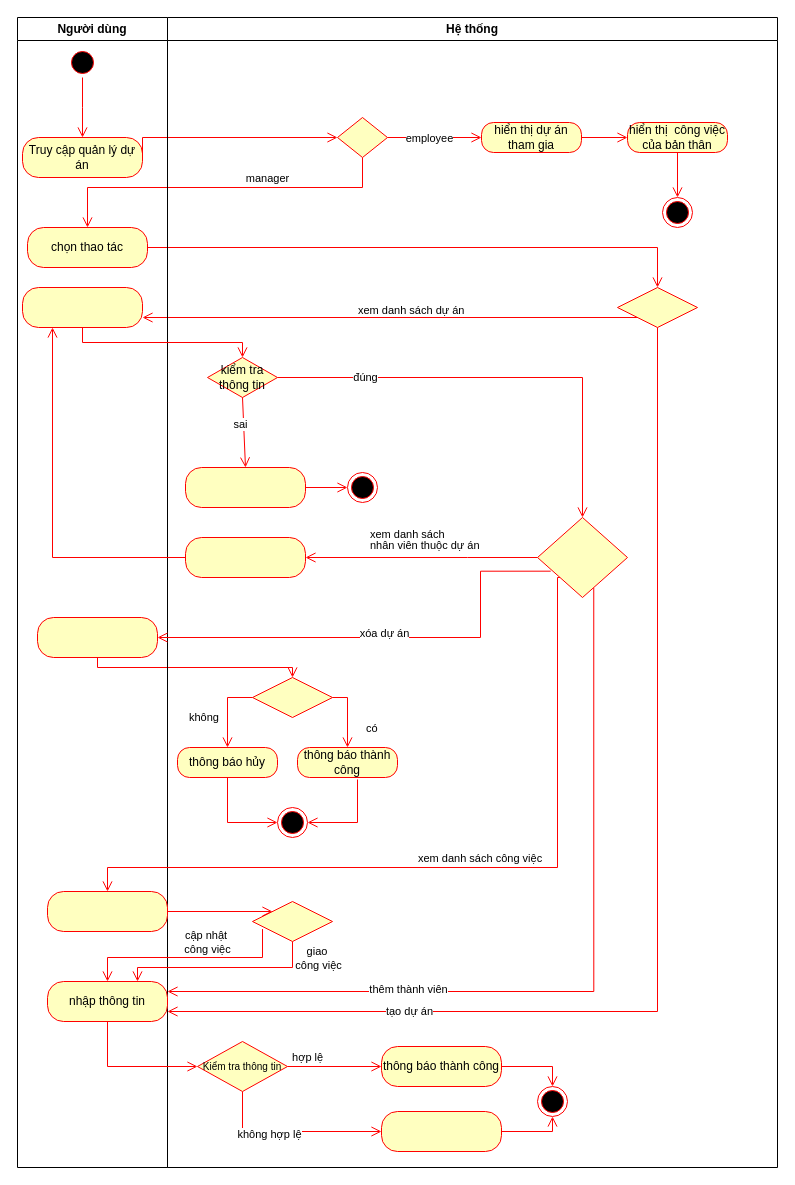
This 795x1185 diagram has some shape labels left out. The centre of each missing label's shape, as x and y in pixels:
"chọn công việc" belongs at (x=107, y=911).
"hiển thị danh sách nhân viên" belongs at (x=245, y=557).
"nhấn xác nhận xóa" belongs at (x=97, y=637).
"thông báo không tìm thấy" belongs at (x=245, y=487).
"thông báo thất bại" belongs at (x=441, y=1131).
"tìm và chọn dự án" belongs at (x=82, y=307).
